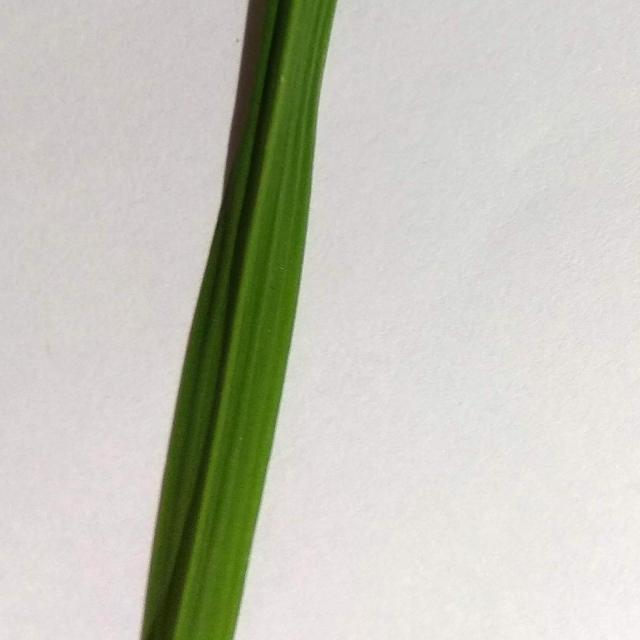healthy: (132, 1, 392, 640), (534, 484, 536, 485)
